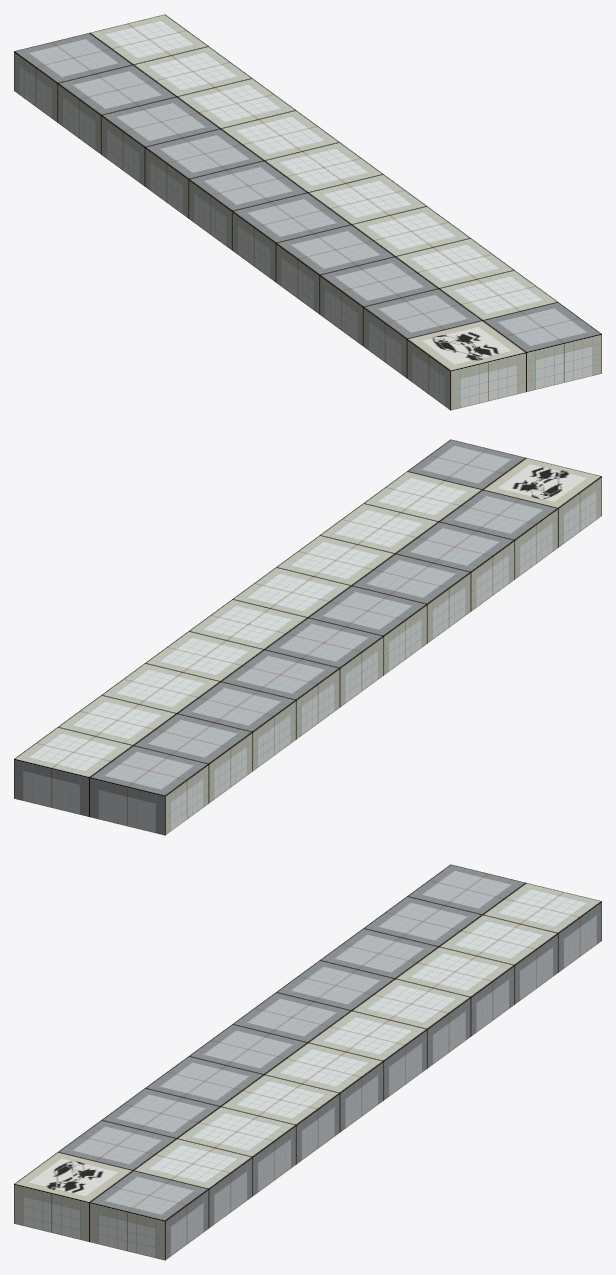
File: Brick Flat 10x2.fbx
3 renders of one model, top to bottom at view 1: azimuth 30°, elevation 25°; view 2: azimuth 150°, elevation 25°; view 3: azimuth 330°, elevation 25°, orthographic.
Parts seen in each view (by area): view 1: Cube; view 2: Cube; view 3: Cube.
Boxes of the visible parts, left/top/right/bottom form: Cube: left=14, top=14, right=601, bottom=410; Cube: left=14, top=439, right=601, bottom=835; Cube: left=14, top=864, right=601, bottom=1260.
Bounding box in the file's own units: 200 × 50 × 1000.
